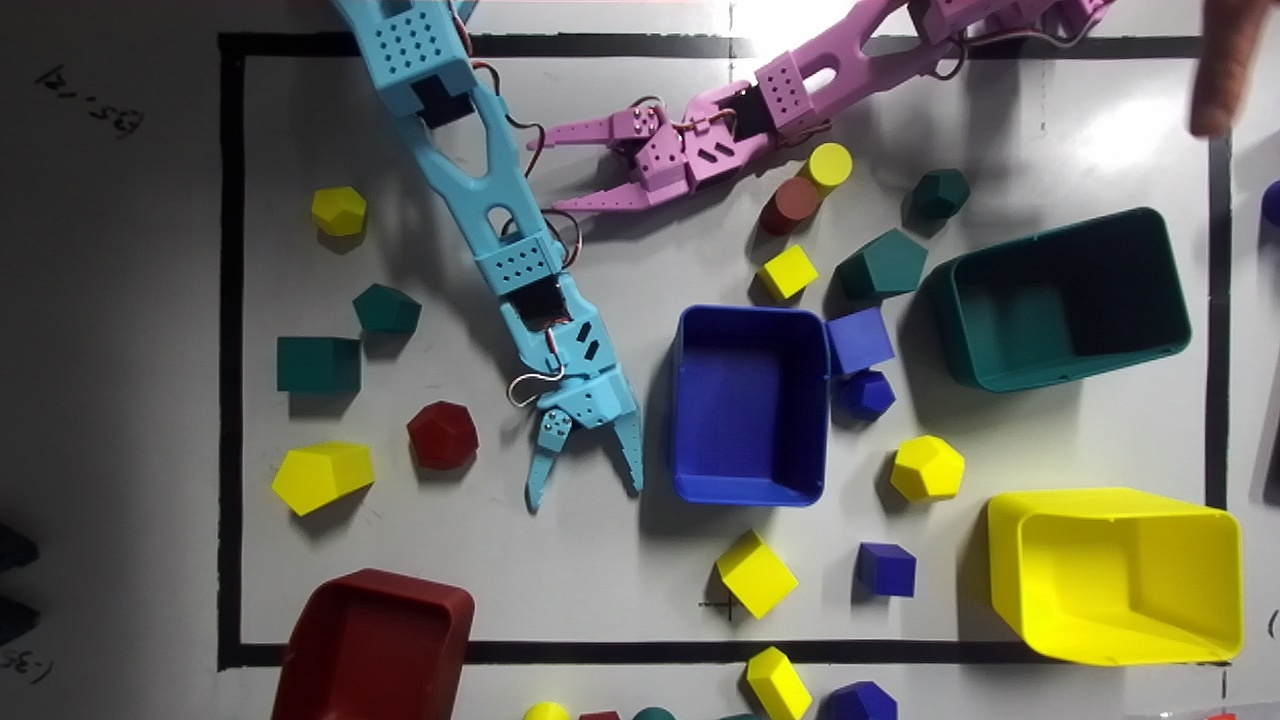bin: (925, 207, 1190, 392), (989, 489, 1242, 664), (671, 305, 887, 505), (272, 569, 473, 719)
cube: (716, 530, 797, 618), (826, 307, 893, 378), (276, 337, 360, 393), (756, 244, 817, 298), (855, 542, 915, 596)
cylinder: (761, 175, 820, 234), (804, 142, 852, 188)
dodecahedron: (406, 400, 478, 470), (890, 435, 963, 500), (910, 169, 970, 220), (837, 370, 895, 420), (311, 186, 366, 236)
hexagonal: (271, 441, 372, 515), (832, 229, 927, 303), (352, 284, 421, 332)
